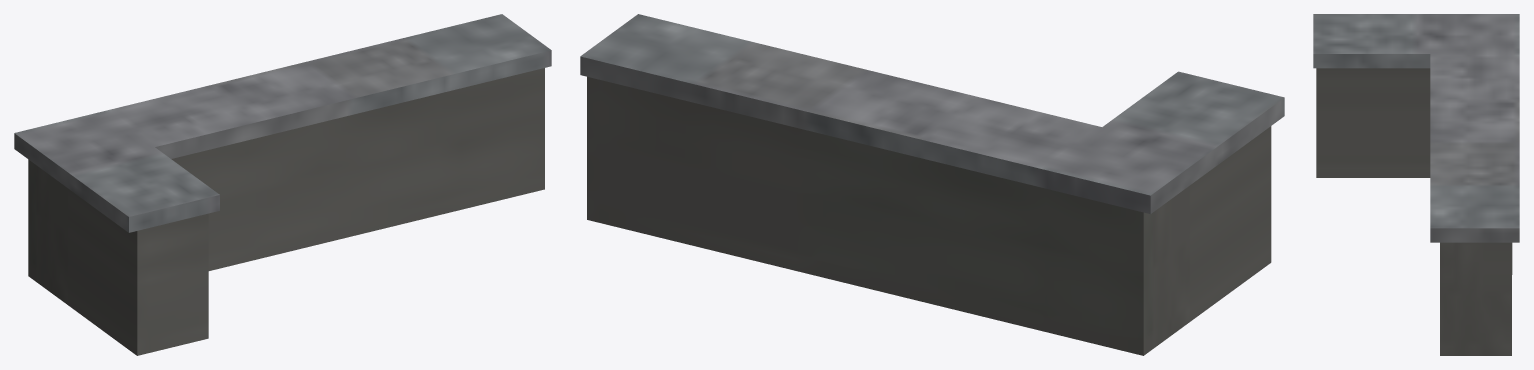
File: CounterTextured.fbx
3 views of the same model, side by side, from view 1: azimuth 30°, elevation 25°; view 2: azimuth 150°, elevation 25°; view 3: azimuth 270°, elevation 25° (orthographic). The views are drawn at different scales.
Parts seen in each view (by area): view 1: Cube, Cube.002; view 2: Cube, Cube.002; view 3: Cube.002, Cube.
Part boxes in pixels (box(x1,y1,x2,y2)): Cube: box(28, 68, 544, 355); Cube.002: box(14, 14, 551, 232); Cube: box(587, 76, 1271, 355); Cube.002: box(580, 14, 1284, 213); Cube.002: box(1313, 14, 1519, 242); Cube: box(1316, 68, 1512, 355).
Bounding box in the file's own units: 2197 × 614 × 895.
